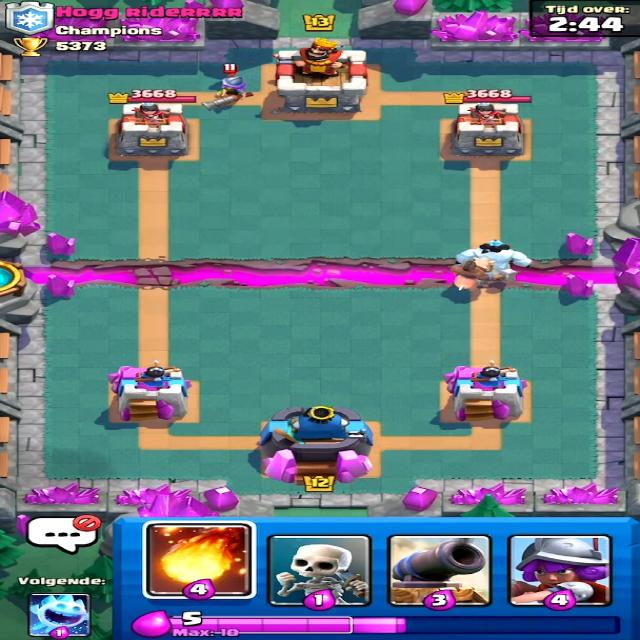Cannon_Card: (389, 532, 478, 607)
Enemy_Musketeer_Troop: (200, 64, 253, 114)
Fireball_Card: (146, 526, 247, 601)
Hog_Rider_Troop: (430, 262, 506, 288)
Ice_Golem_Troop: (453, 238, 536, 283)
Musketeer_Card: (513, 535, 608, 608)
Skeleton_Card: (268, 533, 372, 607)
